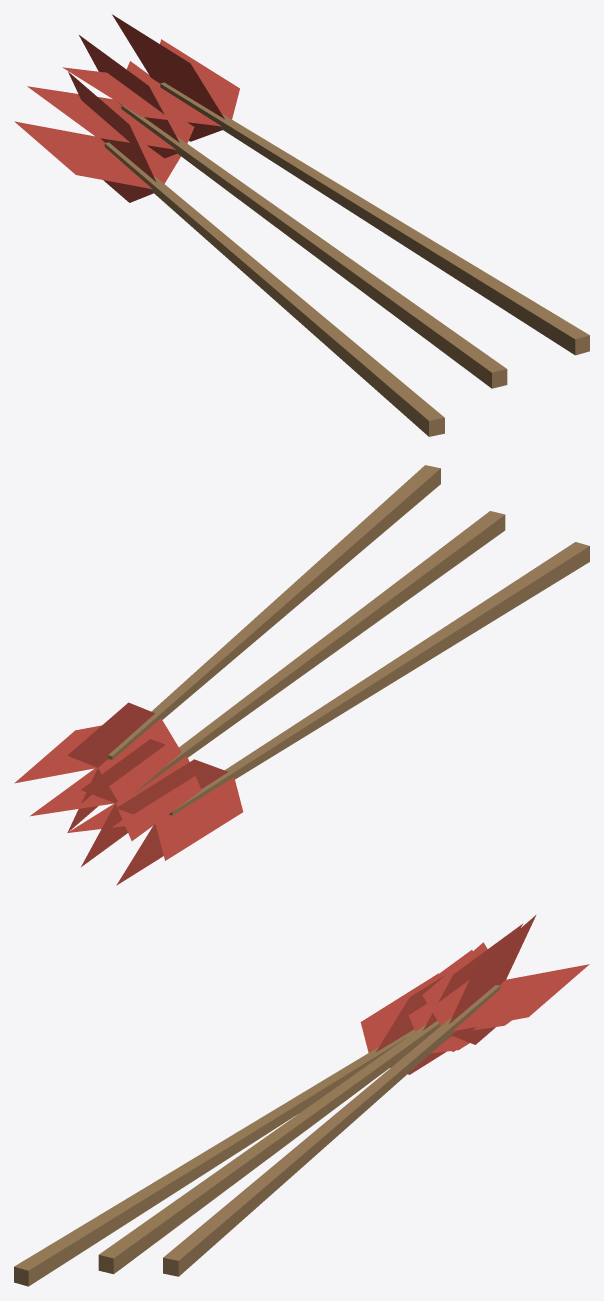
The model's file is HeadlessArrowStack3.glb.
The picture shows the model from 3 angles, top to bottom: view 1: azimuth 30°, elevation 25°; view 2: azimuth 150°, elevation 25°; view 3: azimuth 330°, elevation 25°; orthographic projection.
Visible parts, largest first — view 1: HeadlessArrowStack3; view 2: HeadlessArrowStack3; view 3: HeadlessArrowStack3.
Boxes of the visible parts, x1,y1,x2,y2 form: HeadlessArrowStack3: [14, 14, 589, 436]; HeadlessArrowStack3: [14, 465, 589, 885]; HeadlessArrowStack3: [14, 915, 589, 1286].
Bounding box in the file's own units: 0.1438 × 0.1005 × 0.646.
